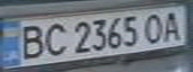2: (69, 18, 93, 55)
3: (90, 16, 112, 52)
5: (121, 12, 145, 47)
6: (106, 15, 127, 51)
A: (157, 8, 187, 42)
B: (12, 21, 48, 61)
C: (39, 20, 69, 57)
O: (139, 10, 169, 44)
